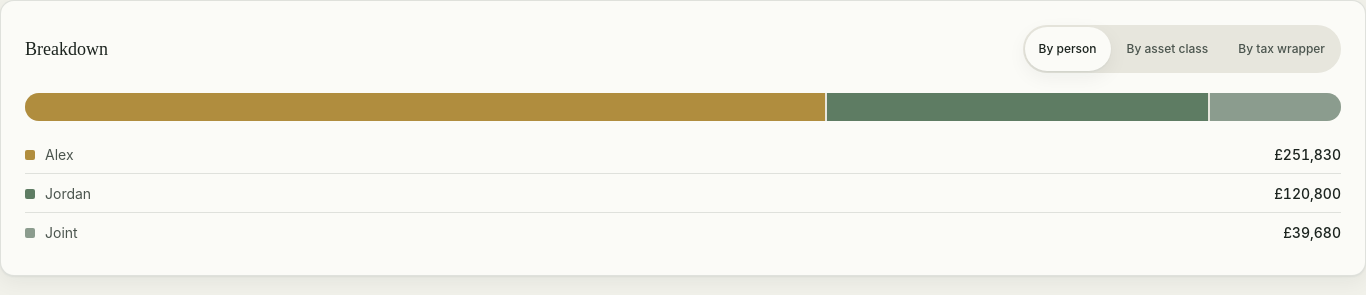
Test: BreakdownPanel › swaps to tax wrapper when clicked
The width and height of the screenshot is (1366, 295).
What coordinates should you click on to do the following:
click the tab "By tax wrapper"
I would click on:
 (1282, 49)
Its box is [1224,27,1339,71].
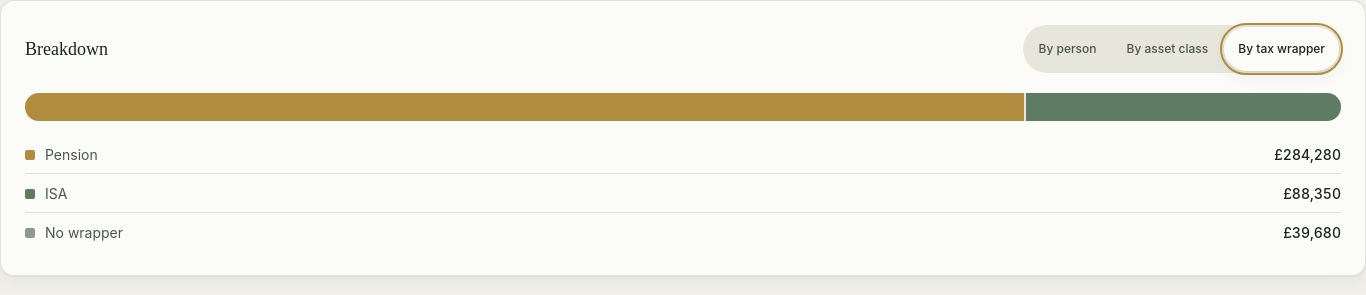
Now the text "Pension" is shown, box [45,146,98,163]
Now the text "ISA" is shown, box [45,185,67,202]
Now the text "Jordan" is gone
